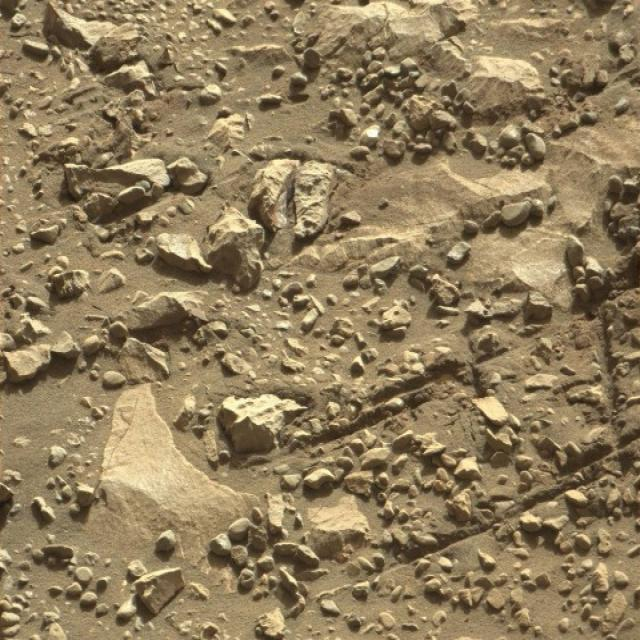rock: (60, 154, 174, 212), (207, 210, 265, 290), (216, 394, 287, 458), (130, 290, 209, 344), (293, 161, 334, 246), (252, 153, 294, 235), (149, 230, 210, 274)
